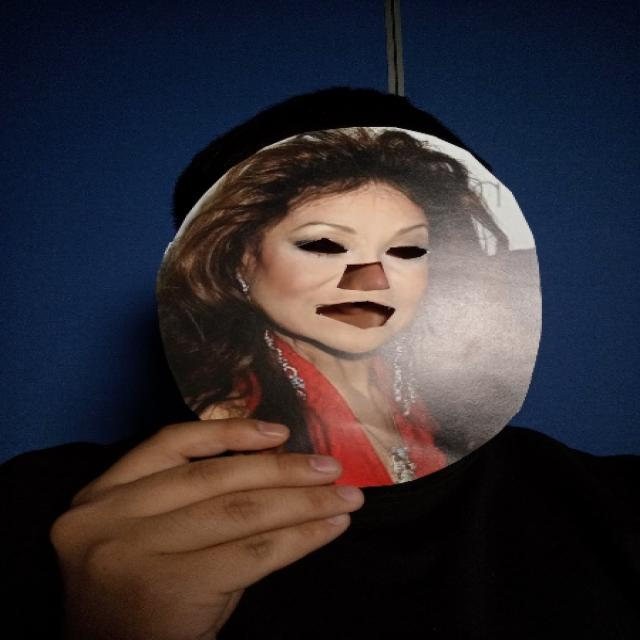mask: (152, 129, 546, 491)
